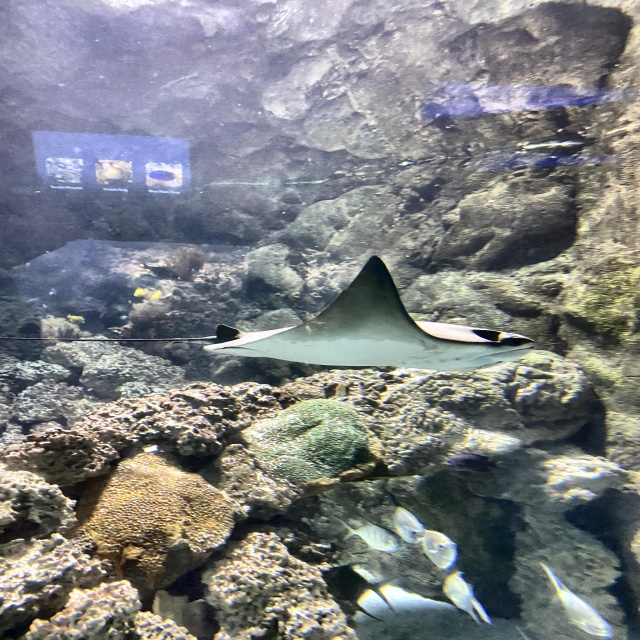fish: (541, 562, 610, 636), (445, 572, 487, 621), (344, 521, 405, 552), (423, 529, 454, 567), (394, 503, 423, 542)
stingray: (202, 253, 539, 370)
